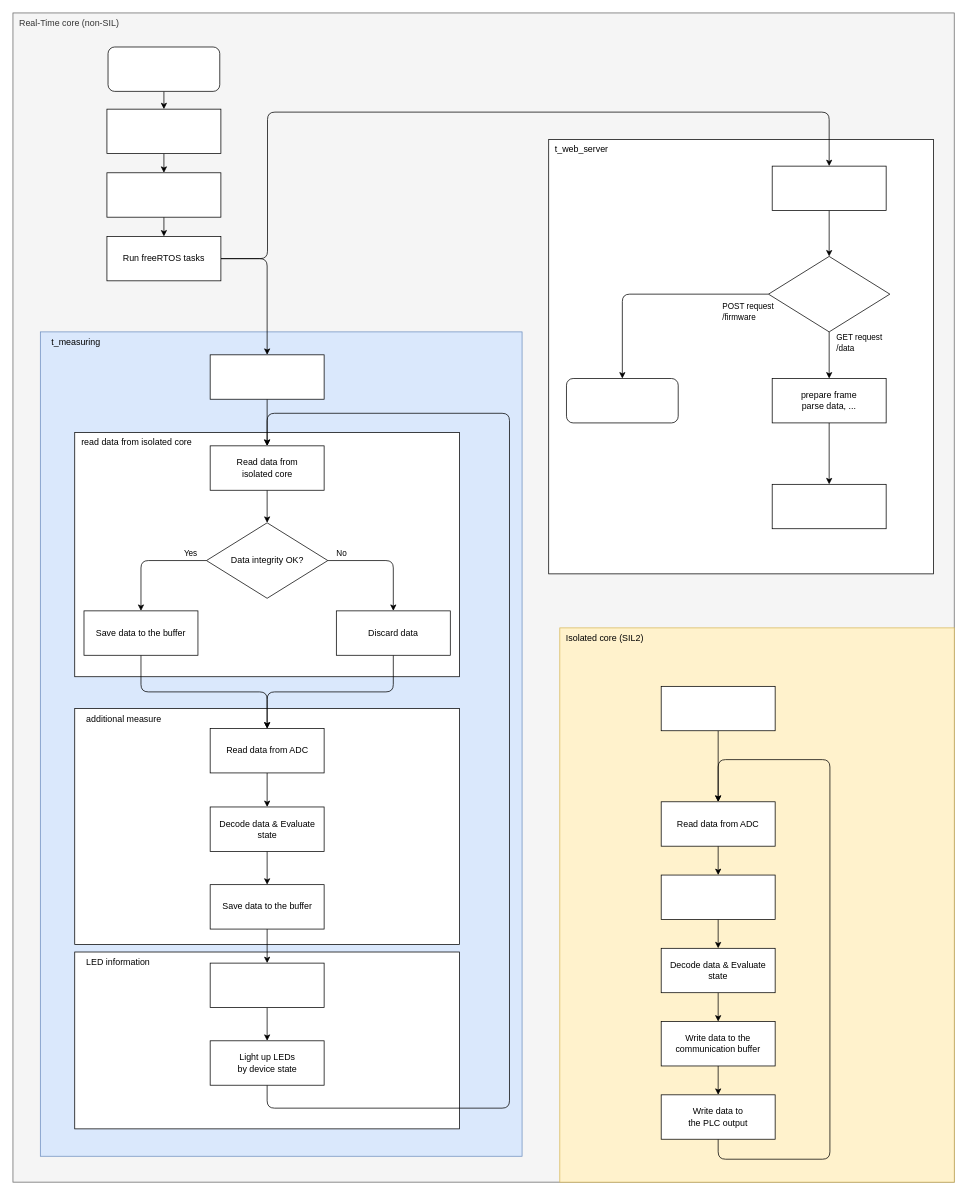
The diagram is 967 pixels wide and 1195 high, and some of its shapes have lost their labels. Here are the shapes that lost their labels. From the top down, the centre of each, then its label:
the point at 163,68: start R0 core
the point at 163,131: Config freeRTOS
the point at 163,194: Prepare common structures like buffers, ...
the point at 828,188: start web server
the point at 829,294: Wait for request (wait forever)
the point at 266,376: Config GPIO & LED Default Status
the point at 622,400: start firmware update process
the point at 828,506: return GET response
the point at 717,708: Config GPIO, SPI, and ADC
the point at 717,896: Read data from daisy-chain inputs
the point at 266,985: Read state from buffer
